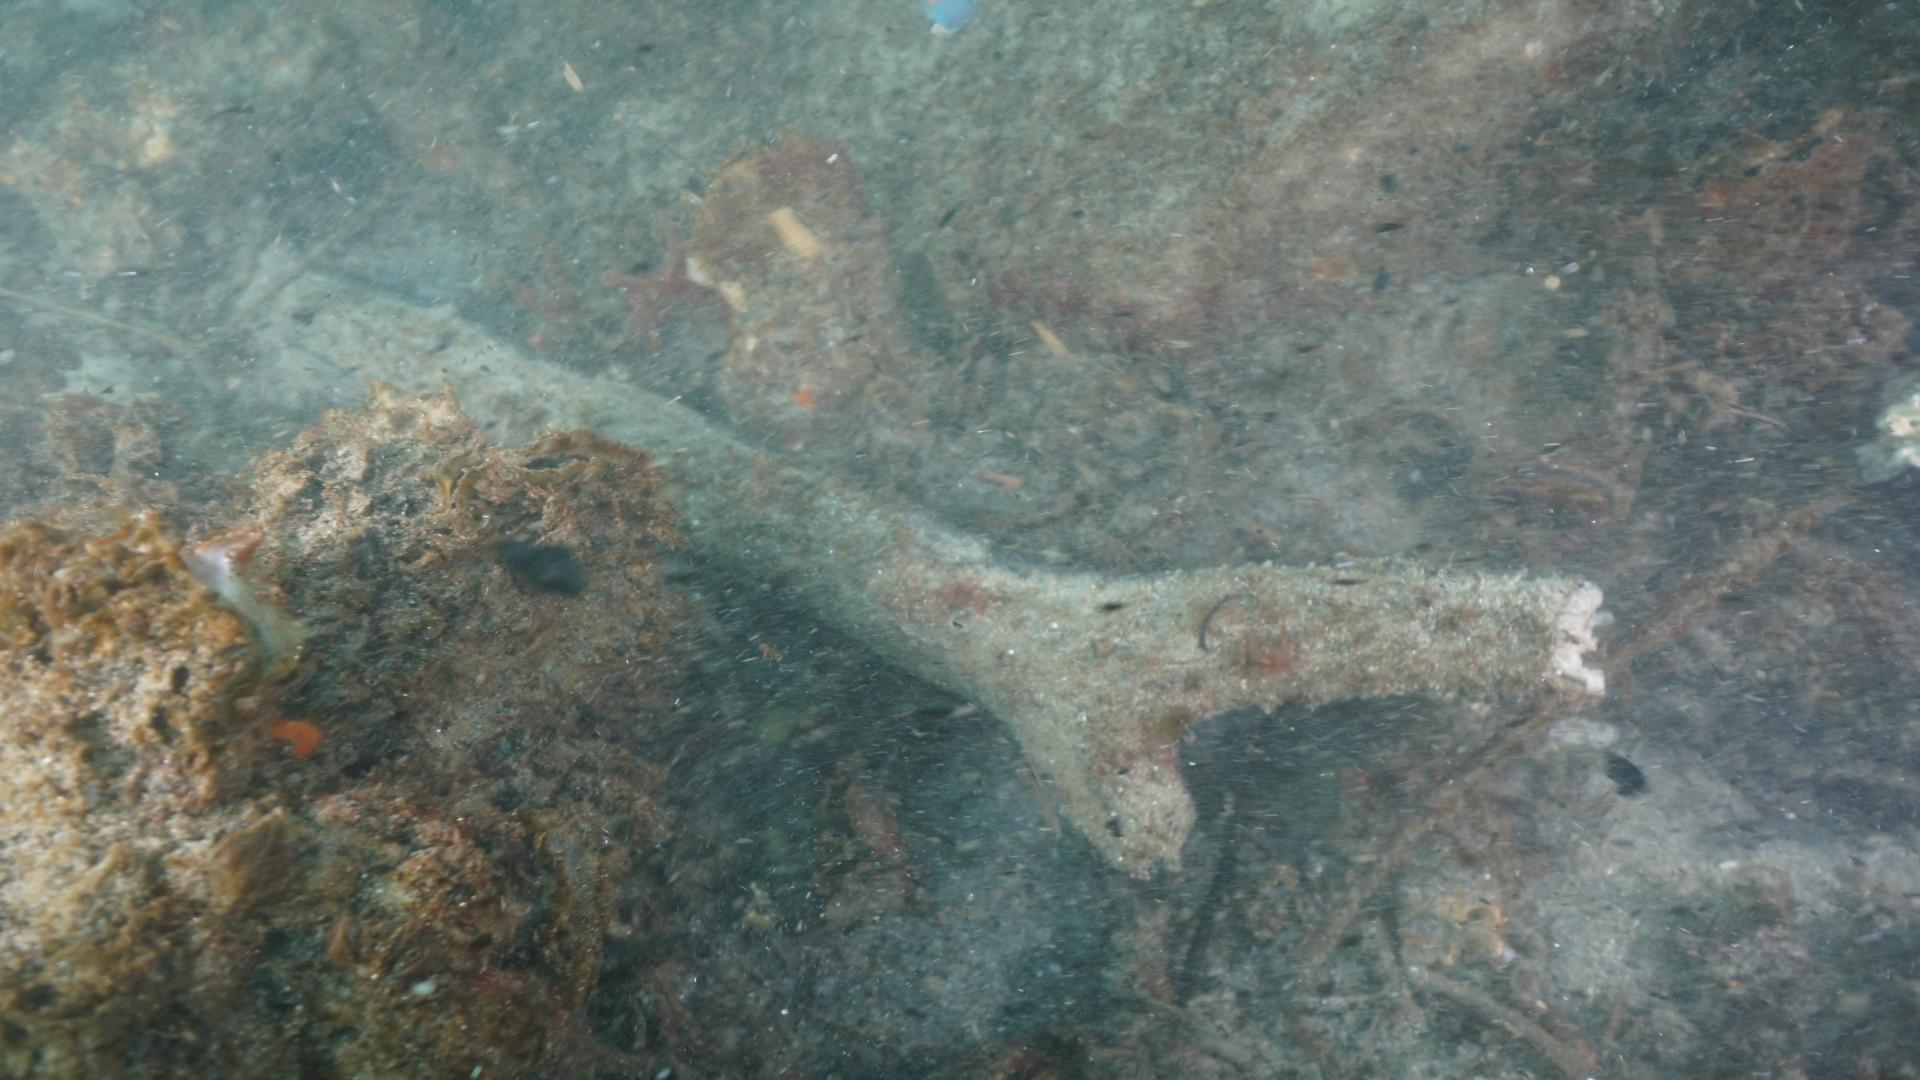wood: (265, 255, 1605, 881)
